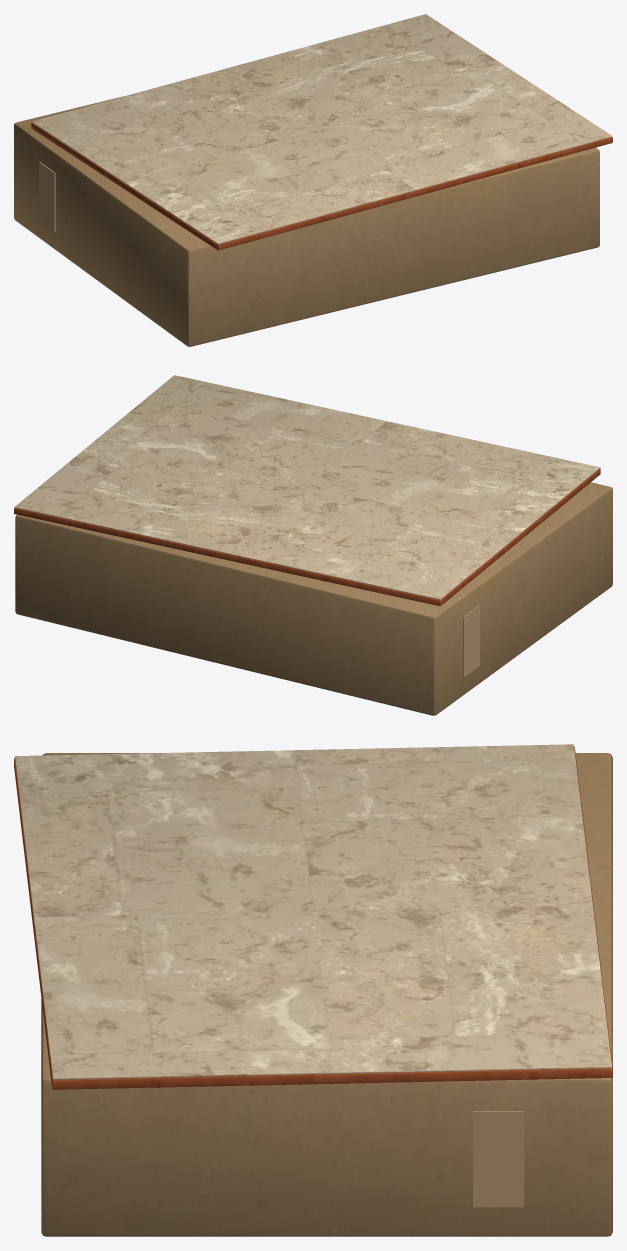
File: REV-CER-002.glb
3 views of the same model, one above another, from view 1: azimuth 30°, elevation 25°; view 2: azimuth 150°, elevation 25°; view 3: azimuth 270°, elevation 25° (orthographic). The views are drawn at different scales.
Visible parts, largest first — view 1: REV-CER-002_face, REV-CER-002_caixa, REV-CER-002_corpo, REV-CER-002_faixa; view 2: REV-CER-002_face, REV-CER-002_caixa, REV-CER-002_corpo, REV-CER-002_faixa; view 3: REV-CER-002_face, REV-CER-002_caixa, REV-CER-002_corpo, REV-CER-002_faixa.
Part boxes in pixels (x1=…): REV-CER-002_face: x1=31, y1=14, x2=612, y2=244; REV-CER-002_caixa: x1=14, y1=96, x2=599, y2=346; REV-CER-002_corpo: x1=31, y1=122, x2=612, y2=250; REV-CER-002_faixa: x1=39, y1=161, x2=55, y2=231; REV-CER-002_face: x1=14, y1=375, x2=600, y2=599; REV-CER-002_caixa: x1=15, y1=482, x2=612, y2=715; REV-CER-002_corpo: x1=14, y1=468, x2=600, y2=606; REV-CER-002_faixa: x1=463, y1=605, x2=479, y2=677; REV-CER-002_face: x1=15, y1=744, x2=611, y2=1079; REV-CER-002_caixa: x1=41, y1=753, x2=612, y2=1236; REV-CER-002_corpo: x1=14, y1=747, x2=612, y2=1089; REV-CER-002_faixa: x1=473, y1=1111, x2=524, y2=1207.
Bounding box in the file's own units: 0.4739 × 0.1116 × 0.352.
6 materials, 4 textured.
